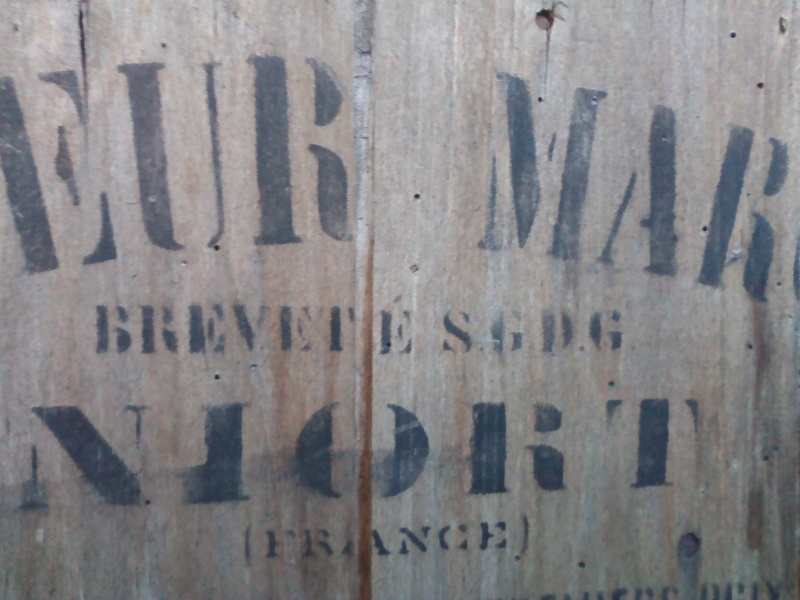text: (497, 61, 512, 308), (513, 61, 528, 308), (529, 61, 544, 308), (545, 61, 560, 308), (561, 61, 576, 308), (577, 61, 592, 308), (593, 61, 608, 308), (609, 61, 624, 308), (625, 61, 640, 308), (641, 61, 656, 308), (657, 61, 672, 308), (673, 61, 688, 308), (689, 61, 704, 308), (705, 61, 720, 308), (721, 61, 736, 308), (737, 61, 752, 308), (753, 61, 768, 308), (769, 61, 784, 308), (1, 51, 16, 295), (17, 51, 32, 295), (33, 51, 48, 295), (49, 51, 64, 295), (65, 51, 80, 295), (81, 51, 96, 295), (97, 51, 112, 295), (113, 51, 128, 295), (129, 51, 144, 295), (145, 51, 160, 295), (161, 51, 176, 295), (177, 51, 192, 295), (193, 51, 208, 295), (209, 51, 224, 295), (225, 51, 240, 295), (241, 51, 256, 295), (257, 51, 272, 295), (273, 51, 288, 295), (289, 51, 304, 295), (305, 51, 320, 295), (321, 51, 336, 295), (337, 51, 352, 295), (785, 61, 795, 308), (353, 51, 363, 295), (488, 61, 496, 308), (33, 393, 48, 513), (49, 393, 64, 513), (65, 393, 80, 513), (81, 393, 96, 513), (97, 393, 112, 513), (113, 393, 128, 513), (129, 393, 144, 513), (145, 393, 160, 513), (161, 393, 176, 513), (177, 393, 192, 513), (193, 393, 208, 513), (209, 393, 224, 513), (225, 393, 240, 513), (241, 393, 256, 513), (257, 393, 272, 513), (273, 393, 288, 513), (289, 393, 304, 513), (305, 393, 320, 513), (321, 393, 336, 513), (337, 393, 352, 513), (353, 393, 368, 513), (369, 393, 384, 513), (385, 393, 400, 513), (401, 393, 416, 513), (417, 393, 432, 513), (433, 393, 448, 513), (449, 393, 464, 513), (465, 393, 480, 513), (481, 393, 496, 513), (497, 393, 512, 513), (513, 393, 528, 513), (529, 393, 544, 513), (545, 393, 560, 513), (561, 393, 576, 513), (577, 393, 592, 513), (593, 393, 608, 513), (609, 393, 624, 513), (625, 393, 640, 513), (641, 393, 656, 513), (657, 393, 672, 513), (673, 393, 688, 513), (689, 393, 704, 513), (18, 393, 32, 513), (97, 292, 112, 358), (113, 292, 128, 358), (129, 292, 144, 358), (145, 292, 160, 358), (161, 292, 176, 358), (177, 292, 192, 358), (193, 292, 208, 358), (209, 292, 224, 358), (225, 292, 240, 358), (241, 292, 256, 358), (257, 292, 272, 358), (273, 292, 288, 358), (289, 292, 304, 358), (305, 292, 320, 358), (321, 292, 336, 358), (337, 292, 352, 358), (353, 292, 368, 358), (369, 292, 384, 358), (385, 292, 400, 358), (401, 292, 416, 358), (257, 513, 272, 576), (273, 513, 288, 576), (289, 513, 304, 576), (305, 513, 320, 576), (321, 513, 336, 576), (337, 513, 352, 576), (353, 513, 368, 576), (369, 513, 384, 576), (385, 513, 400, 576), (401, 513, 416, 576), (417, 513, 432, 576), (433, 513, 448, 576), (449, 513, 464, 576), (465, 513, 480, 576), (481, 513, 496, 576), (497, 513, 512, 576), (513, 513, 528, 576), (242, 513, 256, 576), (449, 306, 464, 357), (465, 306, 480, 357), (481, 306, 496, 357), (497, 306, 512, 357), (513, 306, 528, 357), (529, 306, 544, 357), (545, 306, 560, 357), (561, 306, 576, 357), (577, 306, 592, 357), (593, 306, 608, 357), (609, 306, 624, 357), (417, 292, 423, 358), (529, 576, 544, 600), (545, 576, 560, 600), (561, 576, 576, 600), (577, 576, 592, 600), (593, 576, 608, 600), (609, 576, 624, 600), (625, 576, 640, 600), (641, 576, 656, 600), (657, 576, 672, 600), (673, 576, 688, 600), (689, 576, 704, 600), (705, 576, 720, 600), (721, 576, 736, 600), (737, 576, 752, 600), (753, 576, 768, 600), (769, 576, 783, 600), (92, 292, 96, 358), (443, 306, 448, 357), (529, 513, 532, 576), (705, 393, 706, 513), (524, 576, 528, 600), (625, 306, 626, 357)
